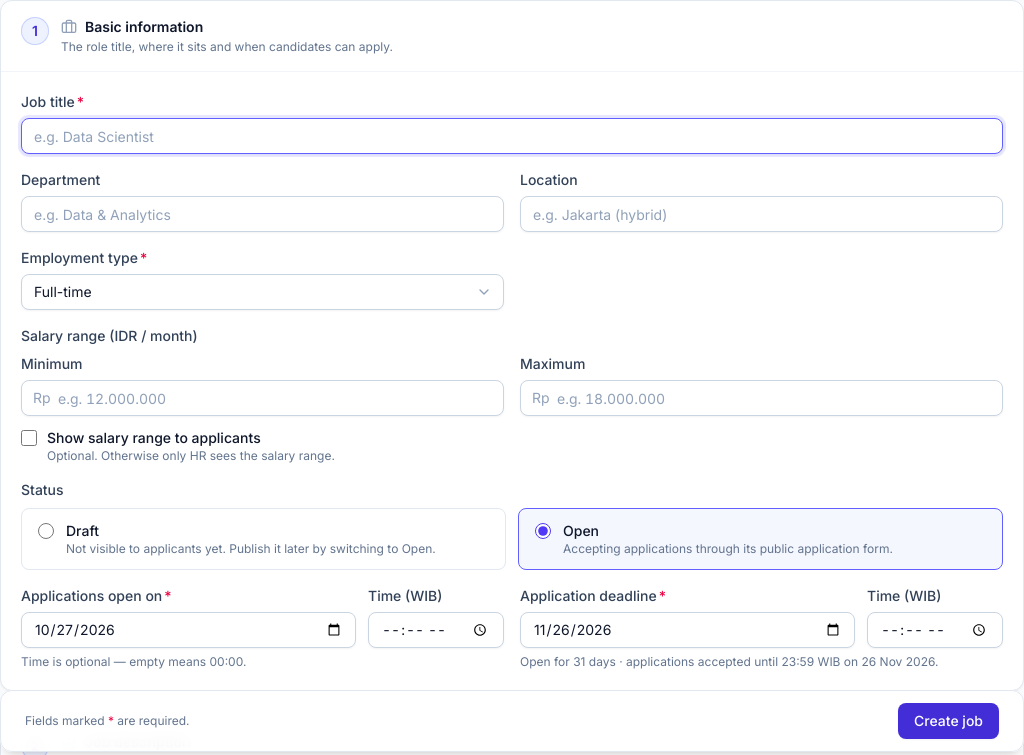
Test: JobForm › requires a job description of at least 10 characters, like the backend
Type "QA Engineer" into the field labelled "Job title*" at (512, 136), box [21,118,1003,154]
(page scrolled)
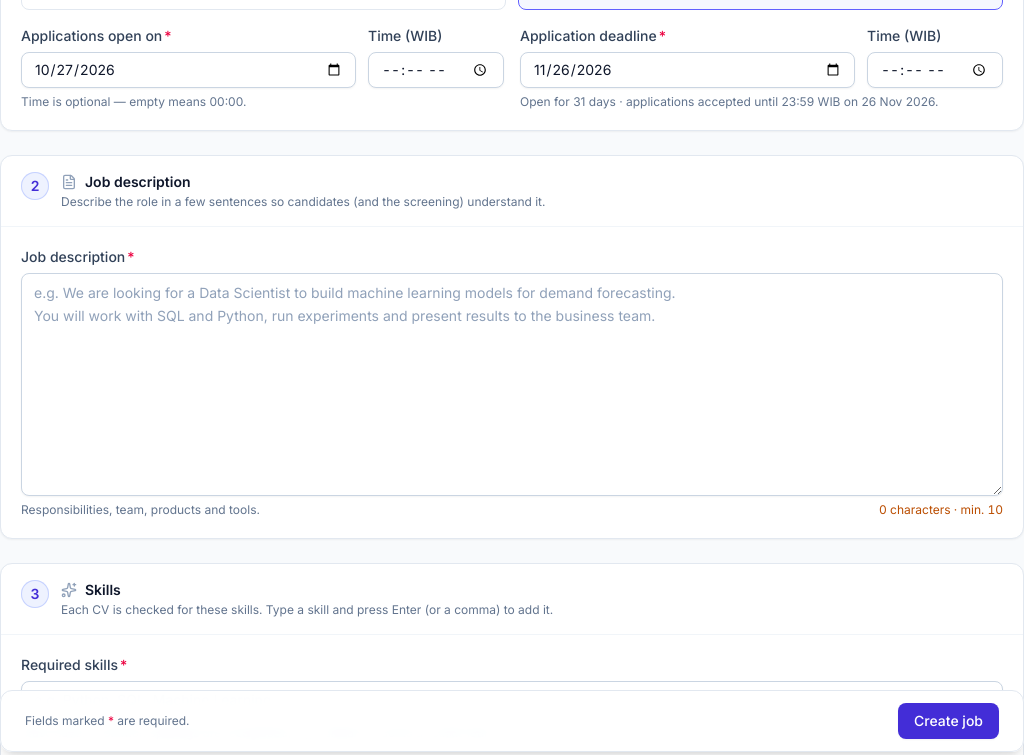
Type "Testing" into the text box labelled "Job description*" at (512, 384), box [21,273,1003,496]
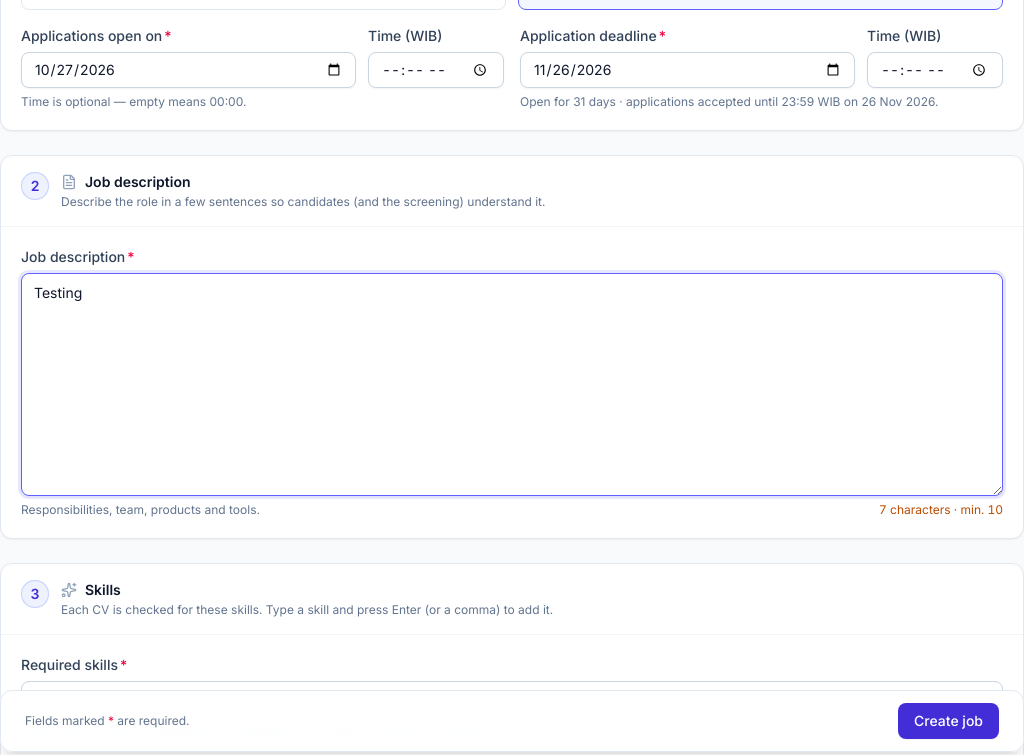
Click the button "Create job" at (948, 721), box [898,703,999,739]
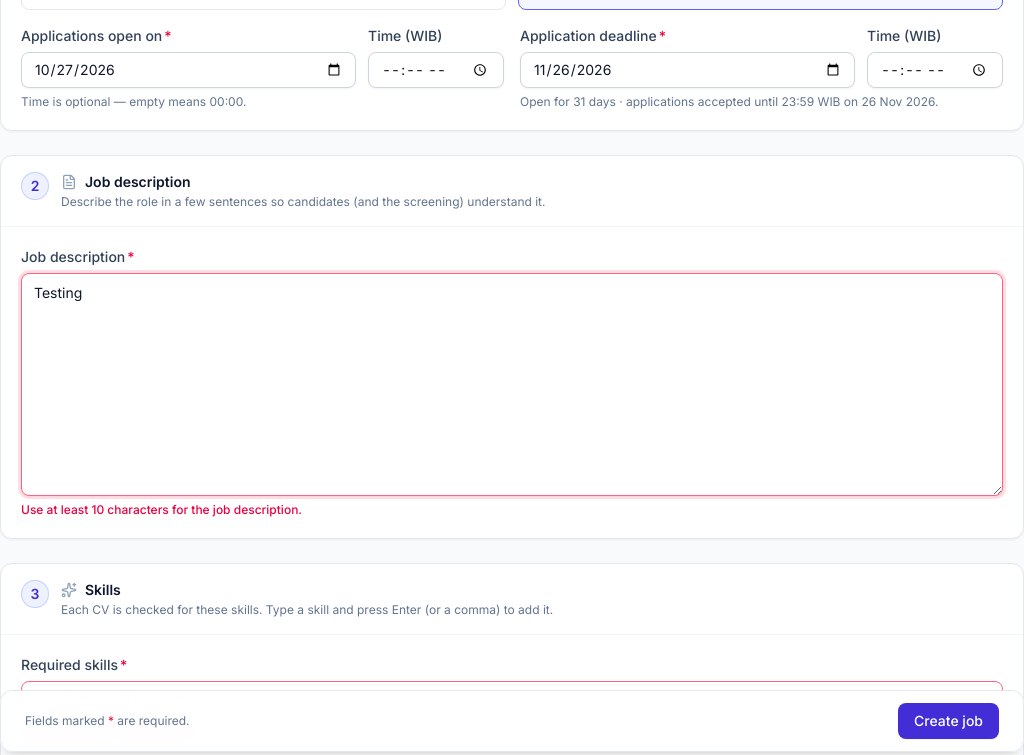
Check: the text "Use at least 10 characters for the job description." is shown, box [21,502,302,517]
